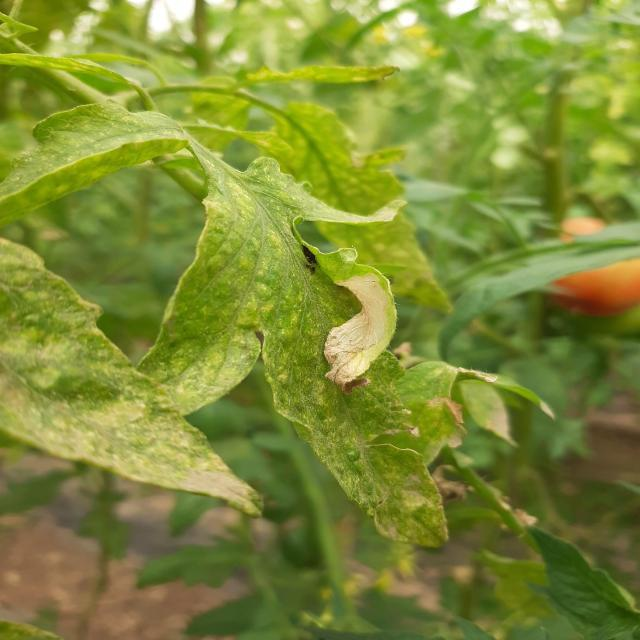Tuta absoluta: (317, 267, 400, 400)
